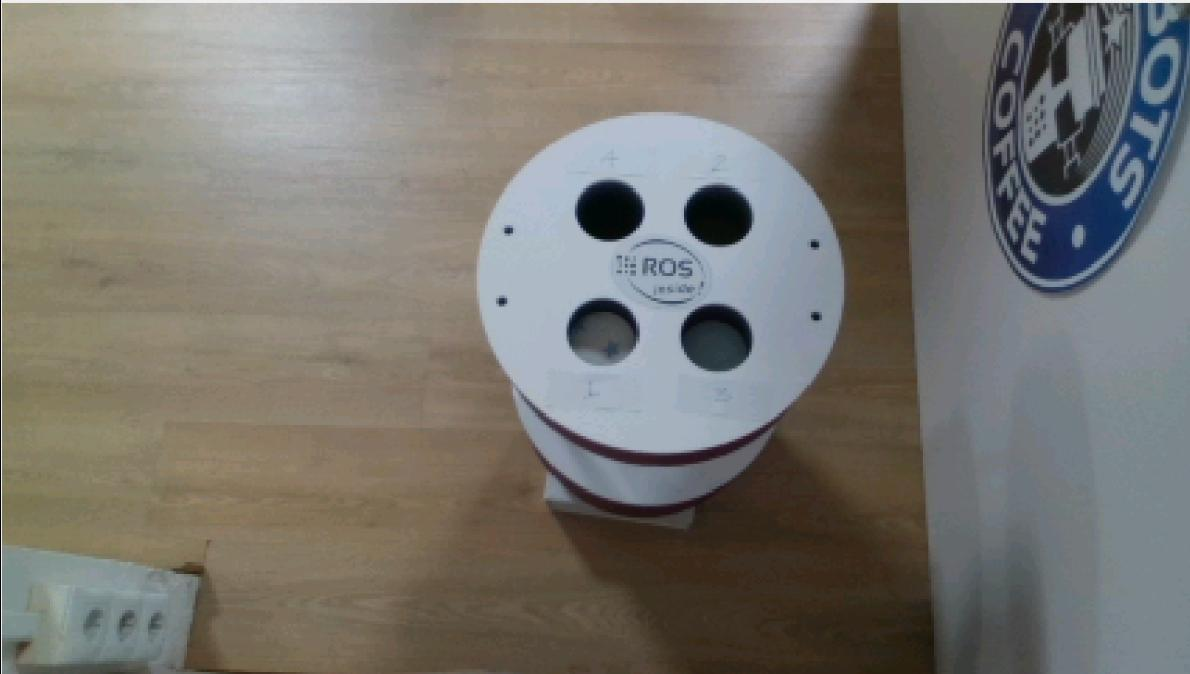hole: (678, 294, 757, 378), (564, 294, 644, 371), (570, 178, 647, 247), (681, 180, 756, 249)
